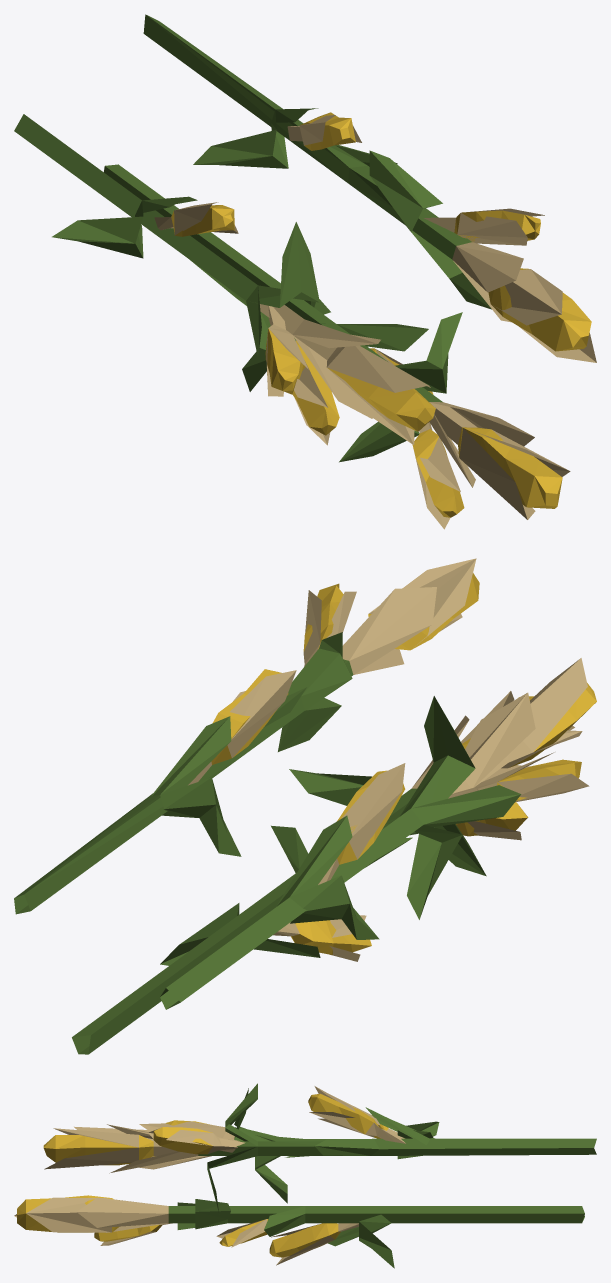
Rendered from cornplant.obj.
The picture shows the model from 3 angles, top to bottom: view 1: azimuth 30°, elevation 25°; view 2: azimuth 150°, elevation 25°; view 3: azimuth 270°, elevation 25°; orthographic projection. The views are drawn at different scales.
Visible parts, largest first — view 1: cornplant; view 2: cornplant; view 3: cornplant.
Part boxes in pixels (left/top/right/bottom): cornplant: left=14, top=14, right=596, bottom=529; cornplant: left=14, top=558, right=596, bottom=1054; cornplant: left=14, top=1083, right=596, bottom=1268.
Size of the model in its own units: 0.7 by 0.71 by 1.96.
